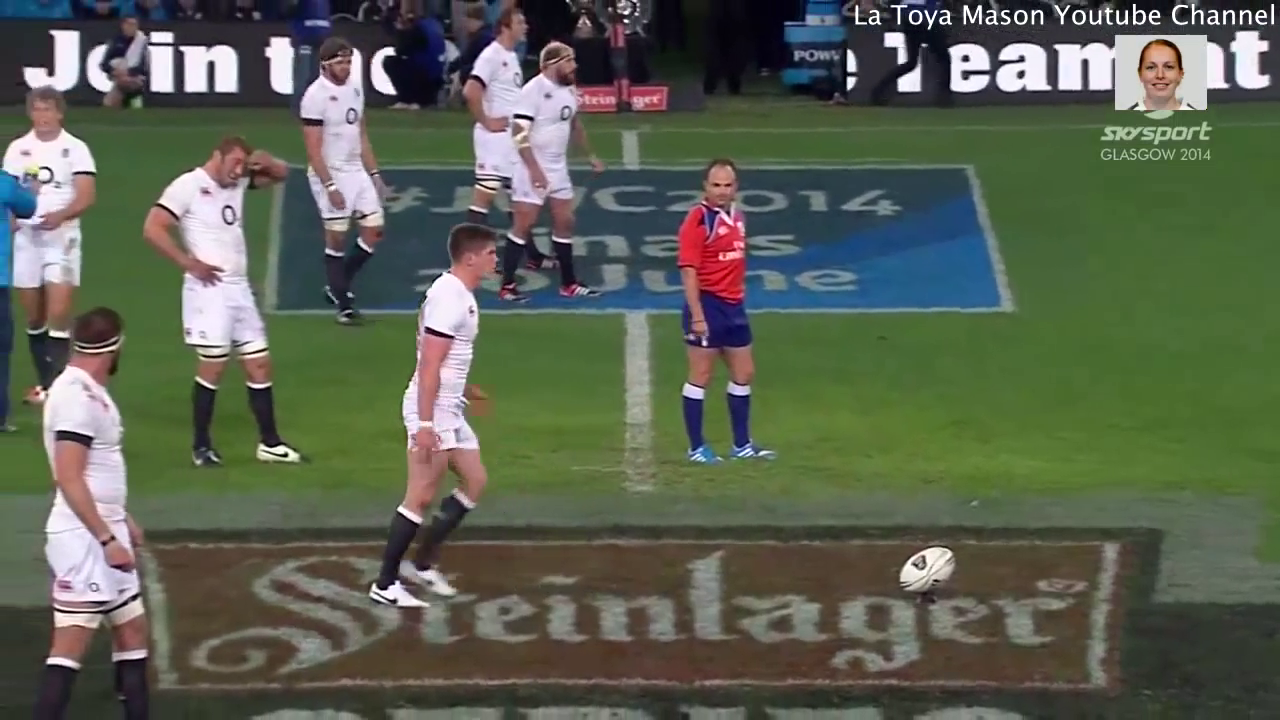ball: (888, 535, 964, 604)
player: (130, 102, 331, 495), (337, 221, 527, 625), (1, 283, 161, 720), (660, 148, 803, 492), (281, 20, 409, 340), (1, 69, 112, 424), (436, 1, 556, 299), (491, 33, 608, 322)
